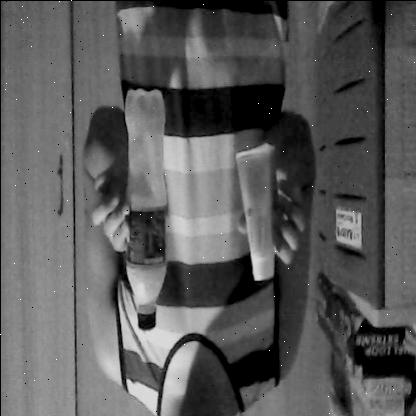Plastic Bottle: (118, 70, 173, 343)
